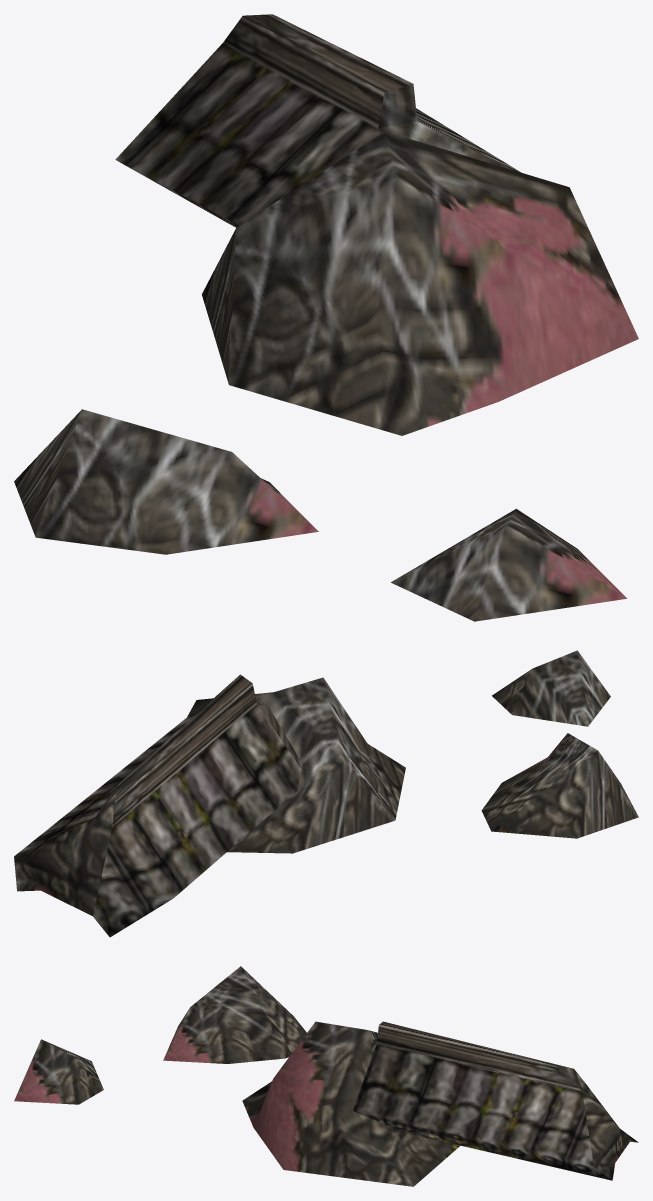
File: Hangzhou_wj_051_3.FBX
3 views of the same model, one above another, from view 1: azimuth 30°, elevation 25°; view 2: azimuth 150°, elevation 25°; view 3: azimuth 270°, elevation 25° (orthographic). The views are drawn at different scales.
Parts seen in each view (by area): view 1: JZ_z破庙门001_017; view 2: JZ_z破庙门001_017; view 3: JZ_z破庙门001_017.
Part boxes in pixels (x1=…): JZ_z破庙门001_017: x1=14, y1=14, x2=638, y2=621; JZ_z破庙门001_017: x1=14, y1=650, x2=638, y2=937; JZ_z破庙门001_017: x1=14, y1=966, x2=638, y2=1186.
Size of the model in its own units: 187 by 61.12 by 273.
1 material, 1 textured.
